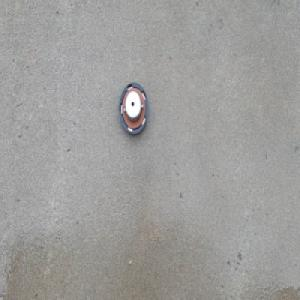FuelCap: (117, 80, 148, 135)
